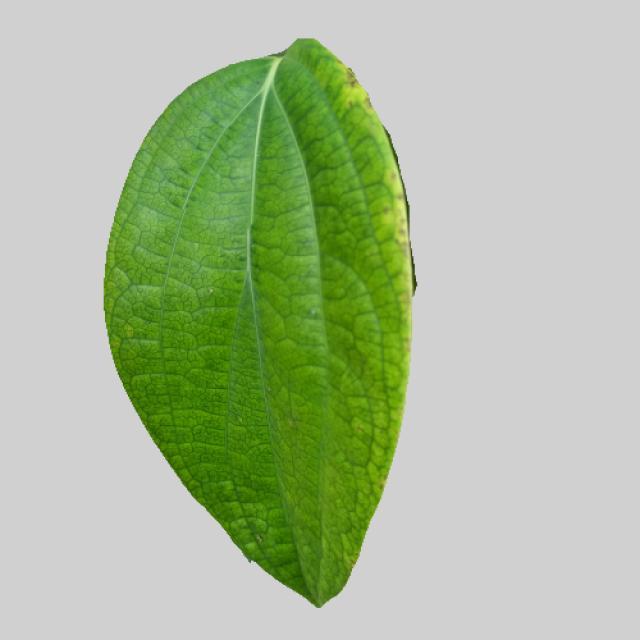healthy: (93, 33, 425, 610)
